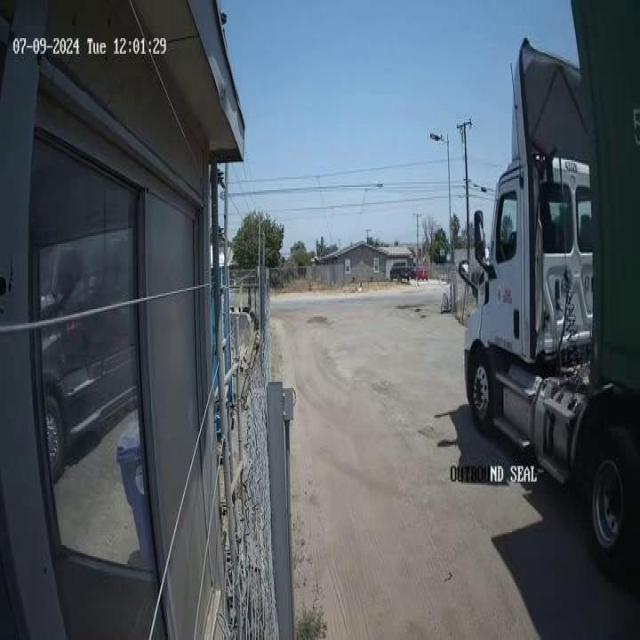TRUCK_OUT: (459, 1, 639, 582)
